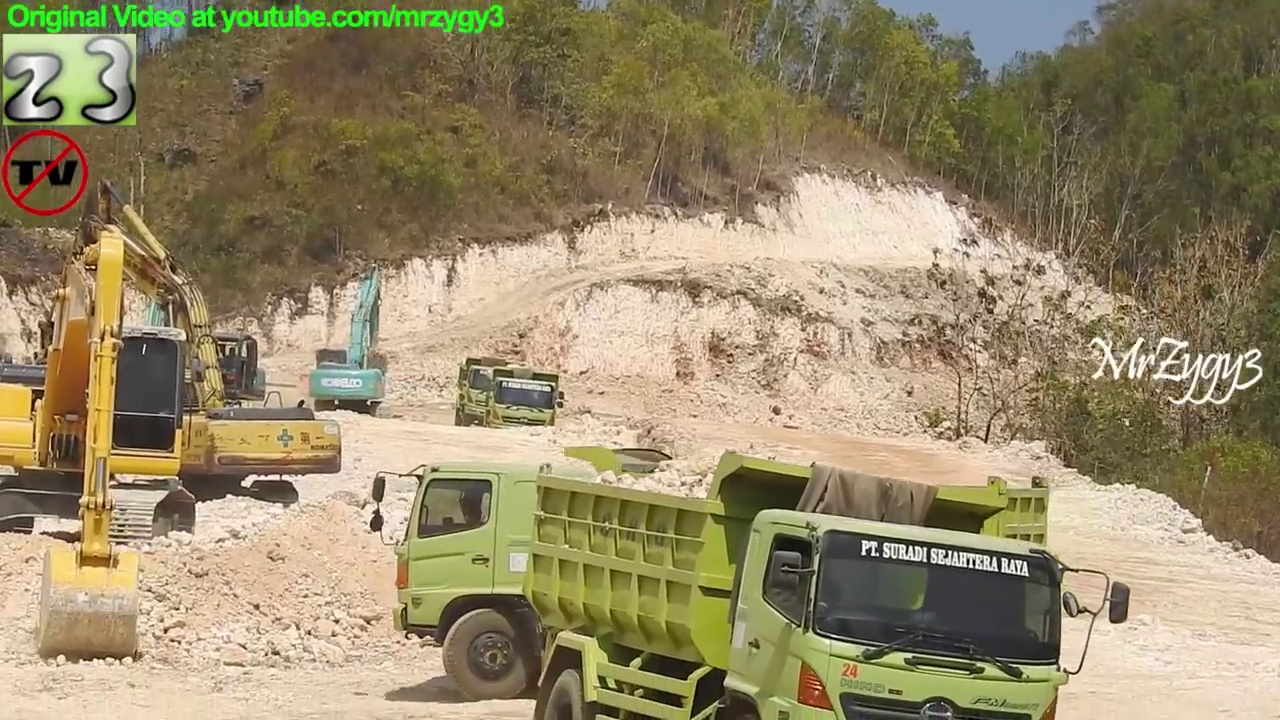excavator: (27, 178, 347, 523), (1, 218, 199, 671), (120, 240, 274, 434), (306, 261, 393, 419)
truck: (362, 455, 1061, 703), (519, 447, 1136, 720), (481, 364, 567, 444), (448, 352, 526, 431)
